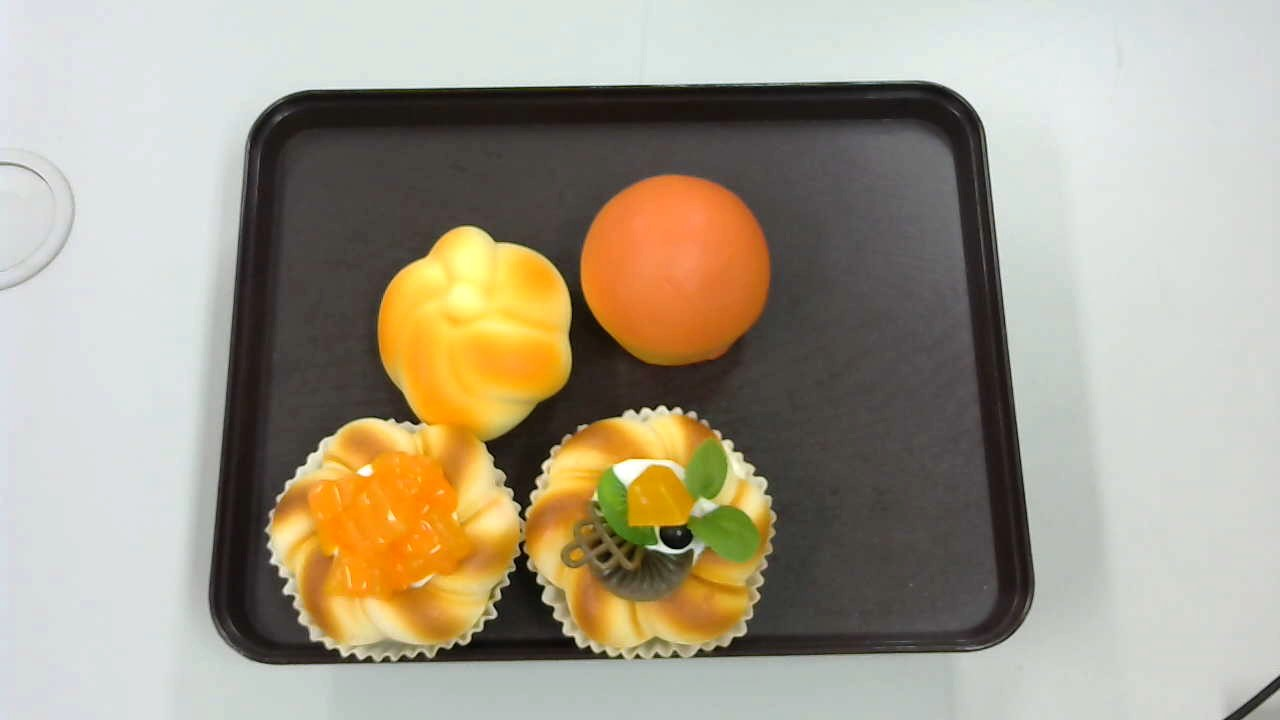bun: (580, 173, 772, 369)
fruit tart: (523, 406, 777, 661)
mango tart: (267, 417, 524, 662)
twist bread: (376, 226, 576, 443)
